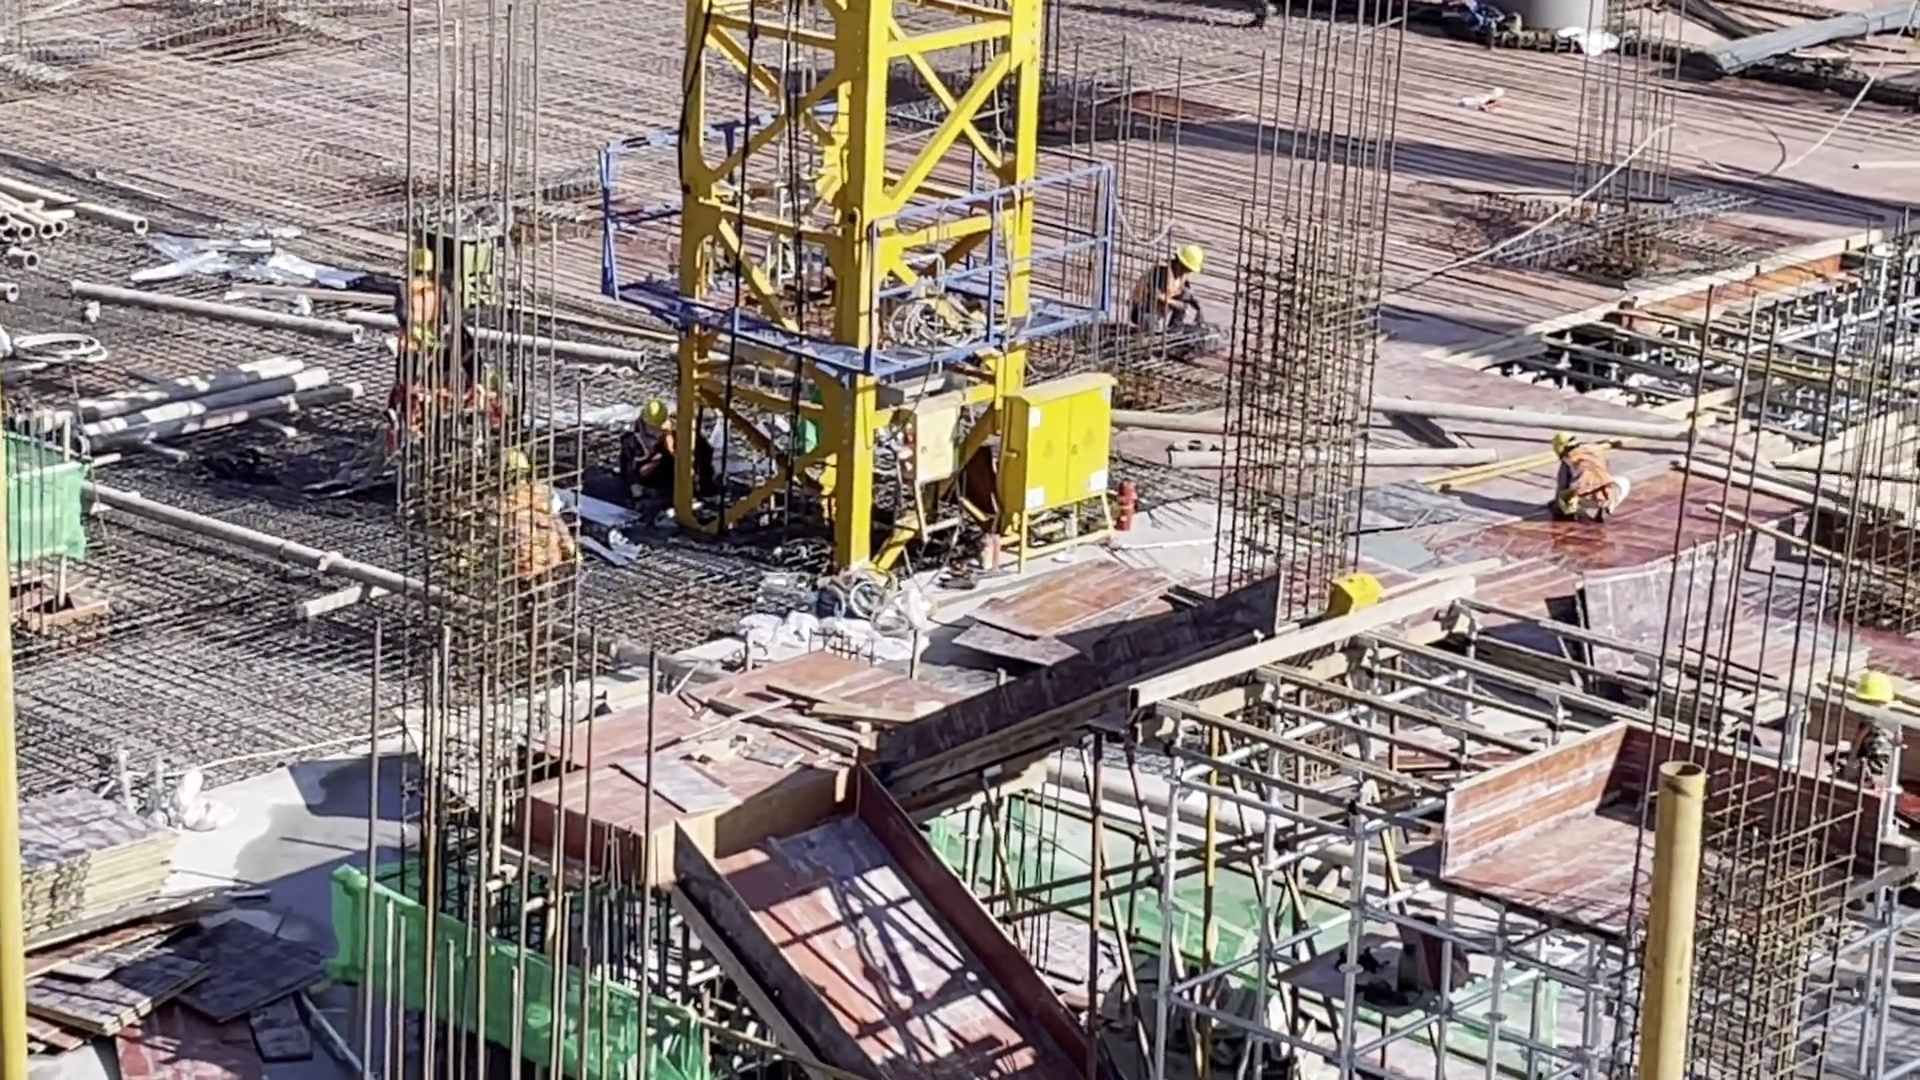board: (24, 916, 340, 1080), (1, 784, 193, 950)
ebox: (992, 371, 1115, 573), (900, 393, 964, 560), (1324, 570, 1388, 618)
helmet: (1849, 663, 1897, 706), (1169, 240, 1210, 280), (498, 451, 530, 481)
person: (492, 450, 581, 646), (1129, 245, 1208, 348), (1548, 433, 1634, 522), (619, 402, 676, 498)
rebar: (1672, 1, 1920, 92)
vest: (498, 489, 561, 582), (1565, 446, 1615, 501)
